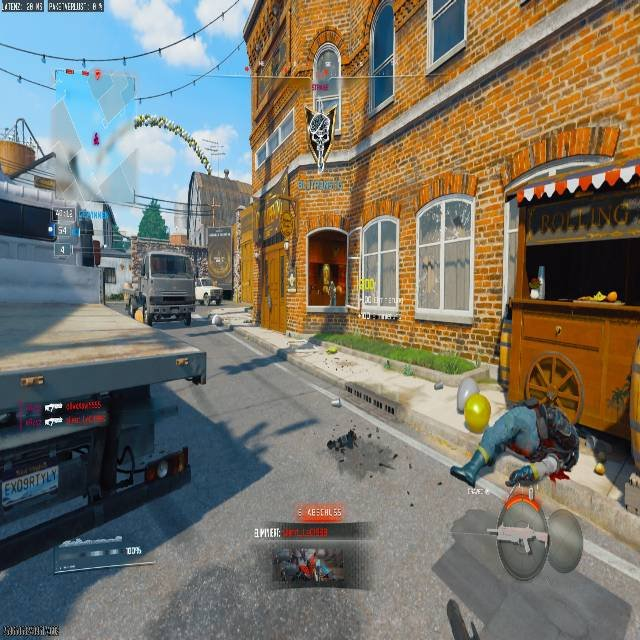head: (525, 352, 584, 417)
player: (448, 351, 585, 488), (123, 273, 149, 324)
